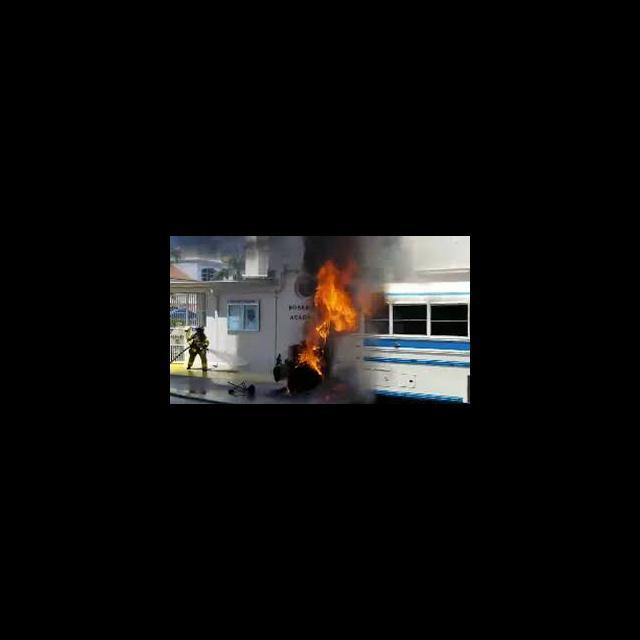Fire: (292, 248, 360, 372)
